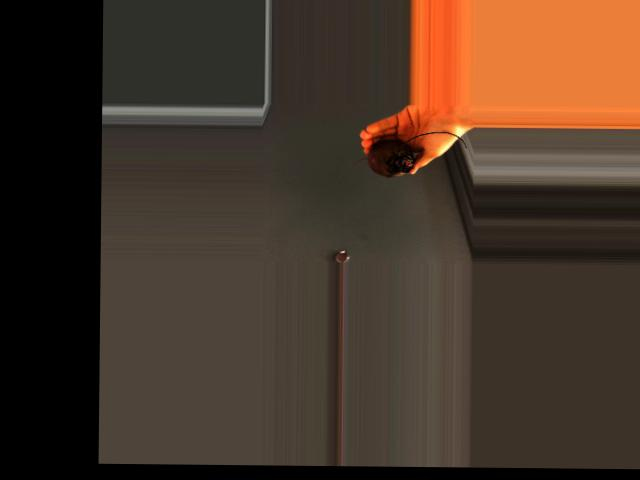beet: (355, 130, 466, 177)
